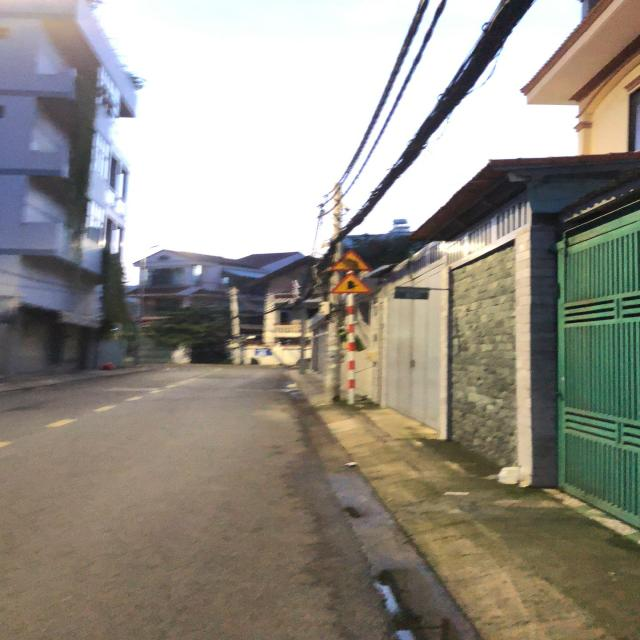Bien bao cho ngoat nguy hiem: (322, 247, 369, 271)
Bien bao giao nhau voi duong khong uu tien: (328, 271, 377, 295)
